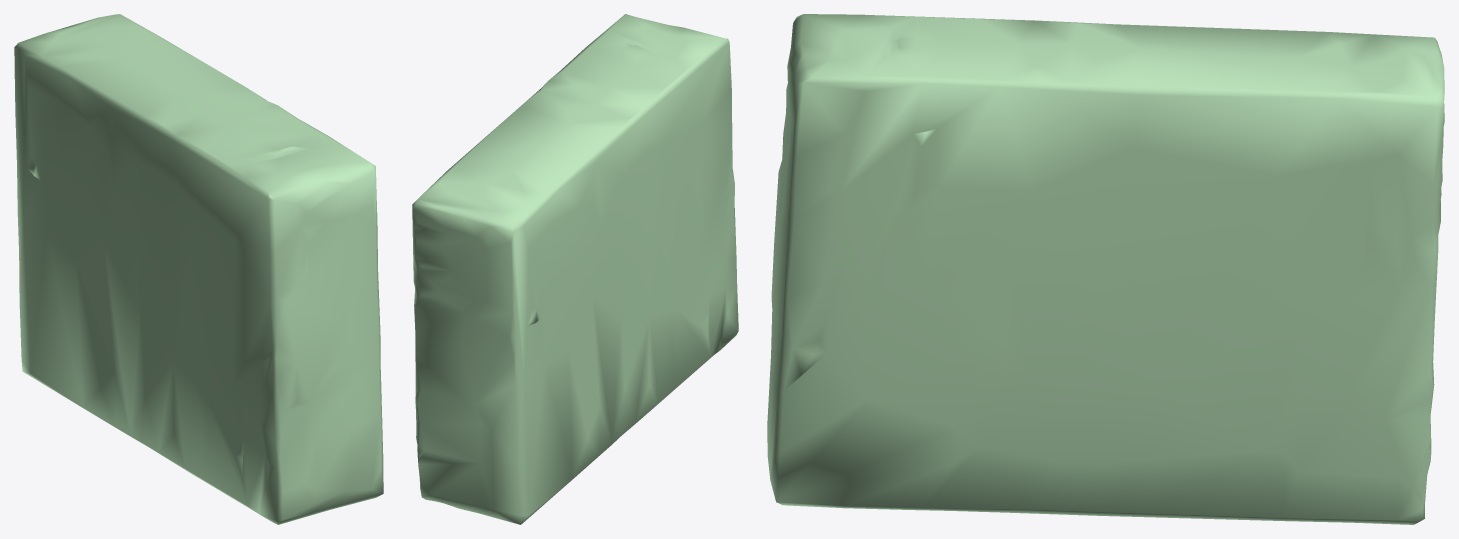
File: rectangularCube3_0.dae
3 renders of one model, left to right at view 1: azimuth 30°, elevation 25°; view 2: azimuth 150°, elevation 25°; view 3: azimuth 270°, elevation 25°, orthographic. The views are drawn at different scales.
Parts seen in each view (by area): view 1: ChickenSoup_800_tex_019; view 2: ChickenSoup_800_tex_019; view 3: ChickenSoup_800_tex_019.
Boxes of the visible parts, <box> form: ChickenSoup_800_tex_019: <box>14,14,383,524</box>; ChickenSoup_800_tex_019: <box>412,14,738,524</box>; ChickenSoup_800_tex_019: <box>767,14,1444,524</box>.
Size of the model in its own units: 0.0165 by 0.0593 by 0.045.
